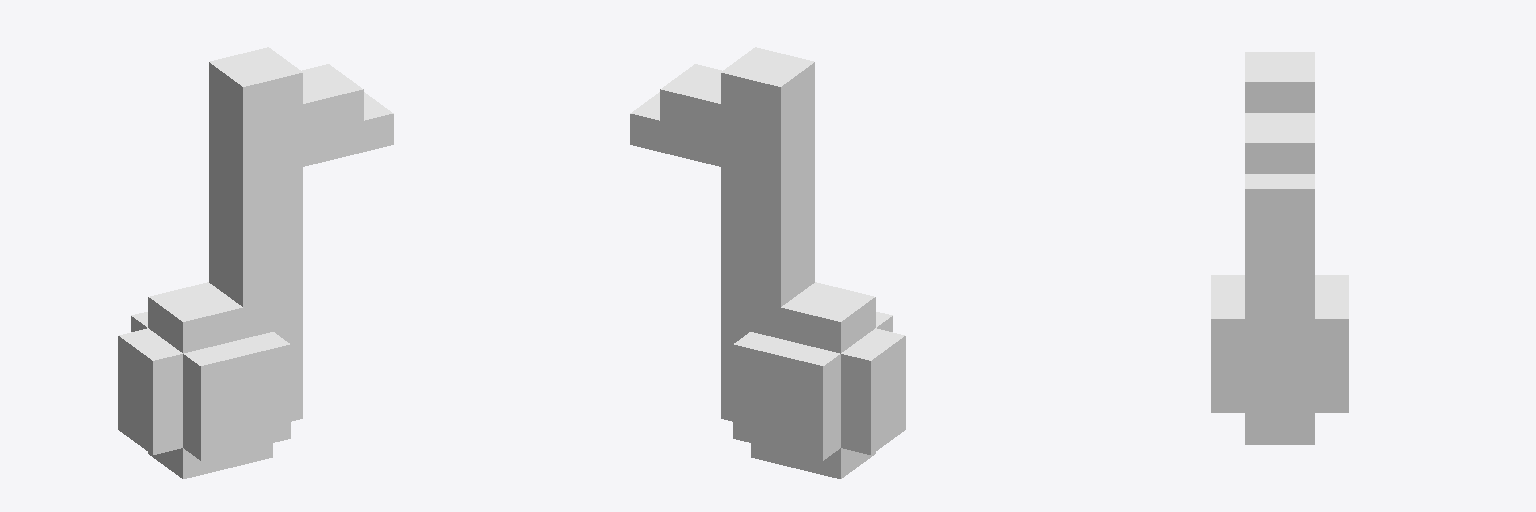
The model's file is MusicNote.obj.
The picture shows the model from 3 angles: view 1: azimuth 30°, elevation 25°; view 2: azimuth 150°, elevation 25°; view 3: azimuth 270°, elevation 25°; orthographic projection.
Parts seen in each view (by area): view 1: object 1; view 2: object 1; view 3: object 1.
Boxes of the visible parts, box(x1,y1,x2,y2) form: object 1: box(118, 47, 393, 478); object 1: box(630, 47, 905, 478); object 1: box(1211, 52, 1348, 444).
Size of the model in its own units: 0.8 by 1.2 by 0.4.